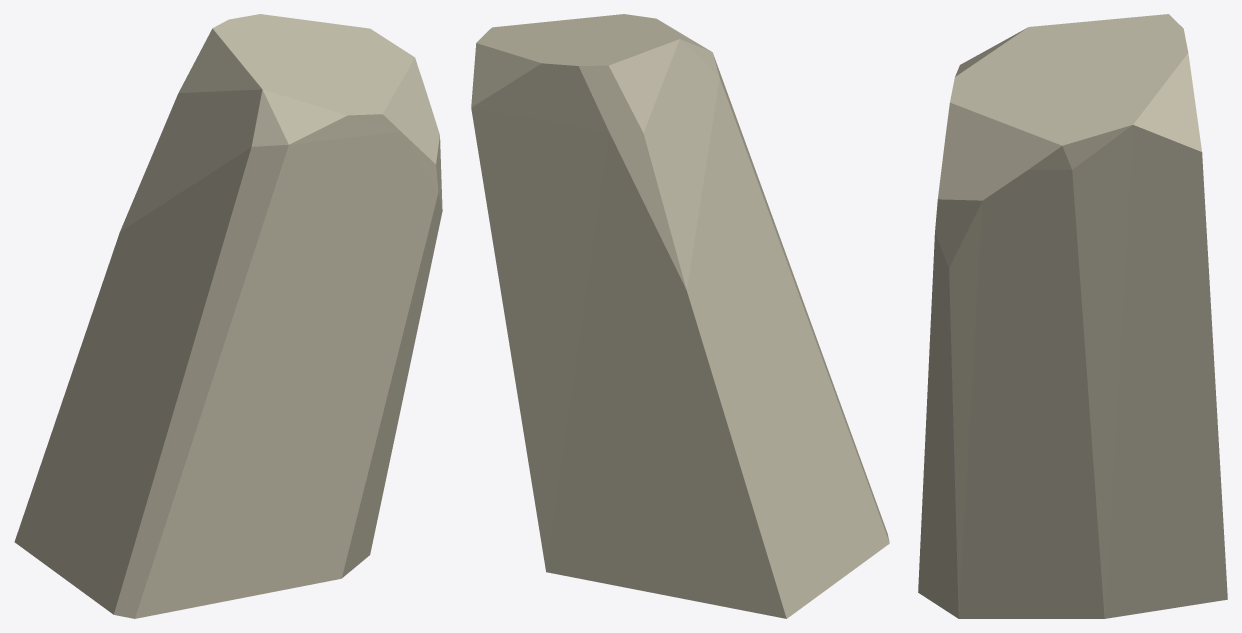
The model's file is Rock_Square_l_09 5.fbx.
The picture shows the model from 3 angles, left to right: view 1: azimuth 30°, elevation 25°; view 2: azimuth 150°, elevation 25°; view 3: azimuth 270°, elevation 25°; orthographic projection. The views are drawn at different scales.
Visible parts, largest first — view 1: Rock_Square_l_09; view 2: Rock_Square_l_09; view 3: Rock_Square_l_09.
Boxes of the visible parts, x1,y1,x2,y2 form: Rock_Square_l_09: (14, 14, 442, 618); Rock_Square_l_09: (471, 14, 889, 618); Rock_Square_l_09: (918, 14, 1227, 618).
Bounding box in the file's own units: 273 × 365 × 181.
